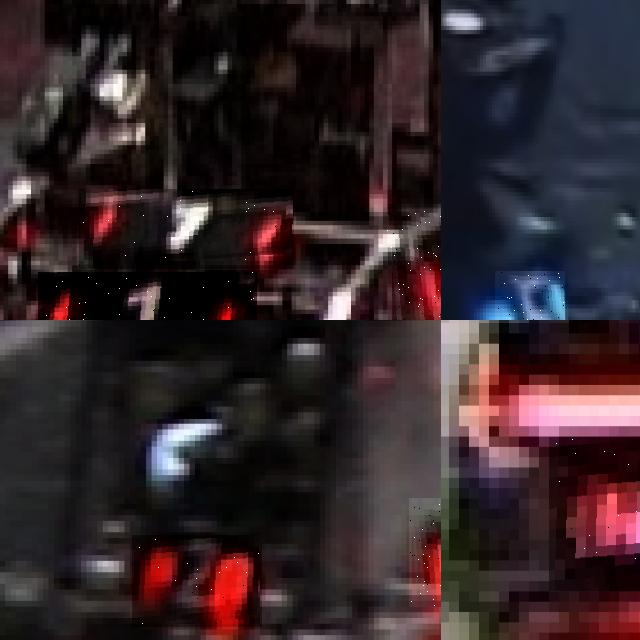B5: (495, 271, 565, 320)
R1: (79, 190, 294, 270), (37, 272, 257, 320), (387, 209, 441, 320)
R2: (132, 535, 262, 627), (409, 498, 441, 606)
R4: (549, 436, 640, 591)
